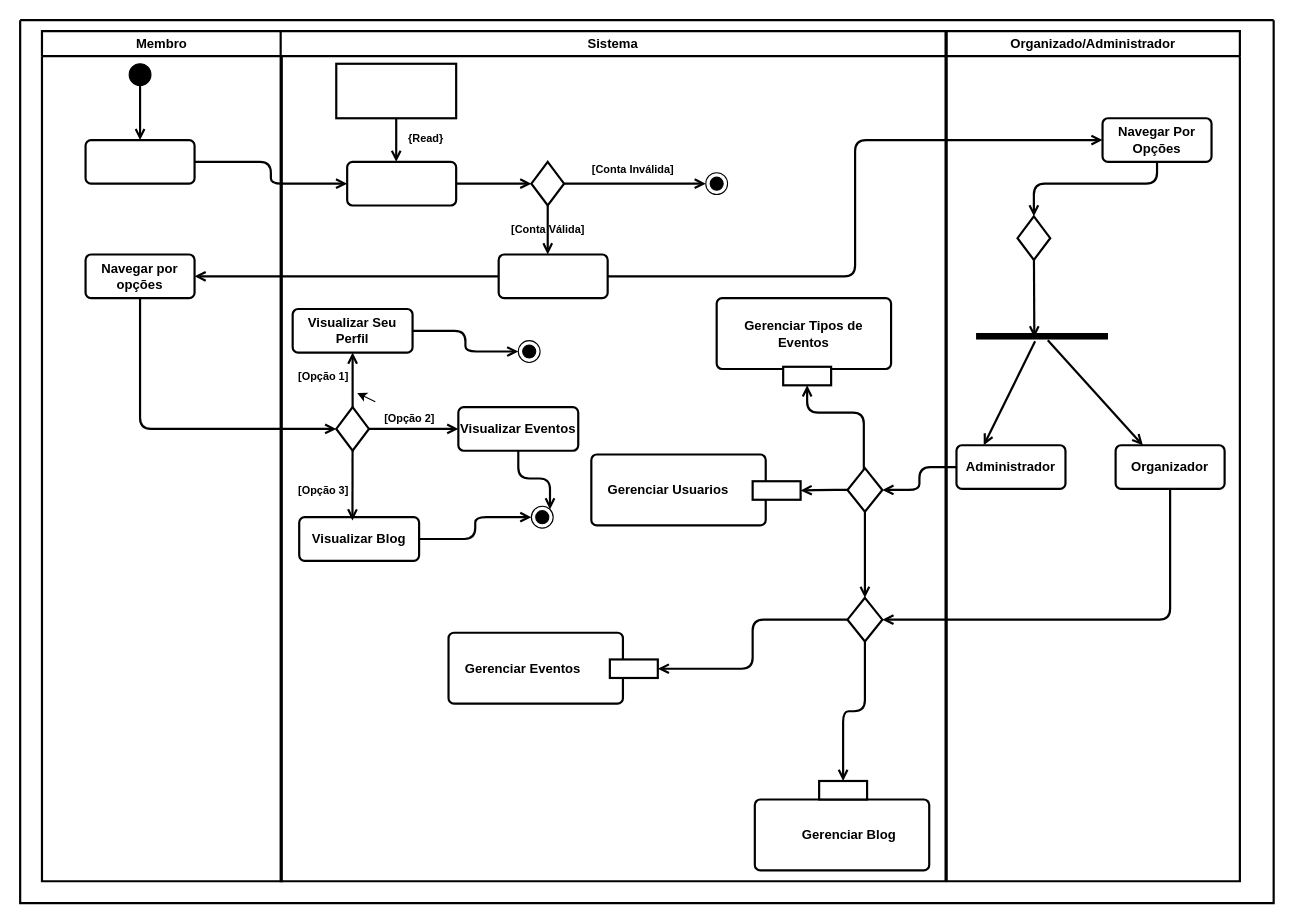
Image size: 1293x922. Some labels were removed from this diagram. The centre of each missing label's shape, as x and y in pixels:
:GetUsuarioAsyn: the point at 396,90
Fazer Login: the point at 139,161
Verificar Conta: the point at 401,183
Visualizar Tela Principal: the point at 552,276
